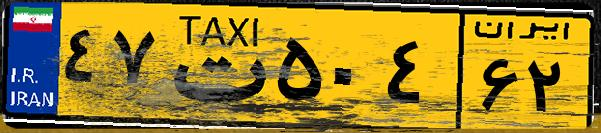0: (330, 28, 385, 110)
2: (525, 38, 570, 115)
4: (385, 28, 445, 110), (57, 26, 110, 100)
5: (270, 28, 330, 110)
6: (475, 38, 525, 113)
7: (110, 28, 158, 98)
ت: (158, 12, 270, 120)
